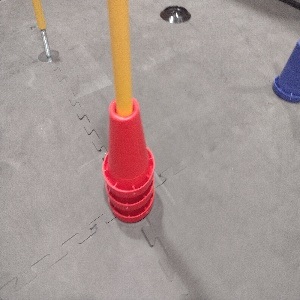Blue_1: (272, 35, 299, 104)
Red_3: (102, 95, 155, 222)
